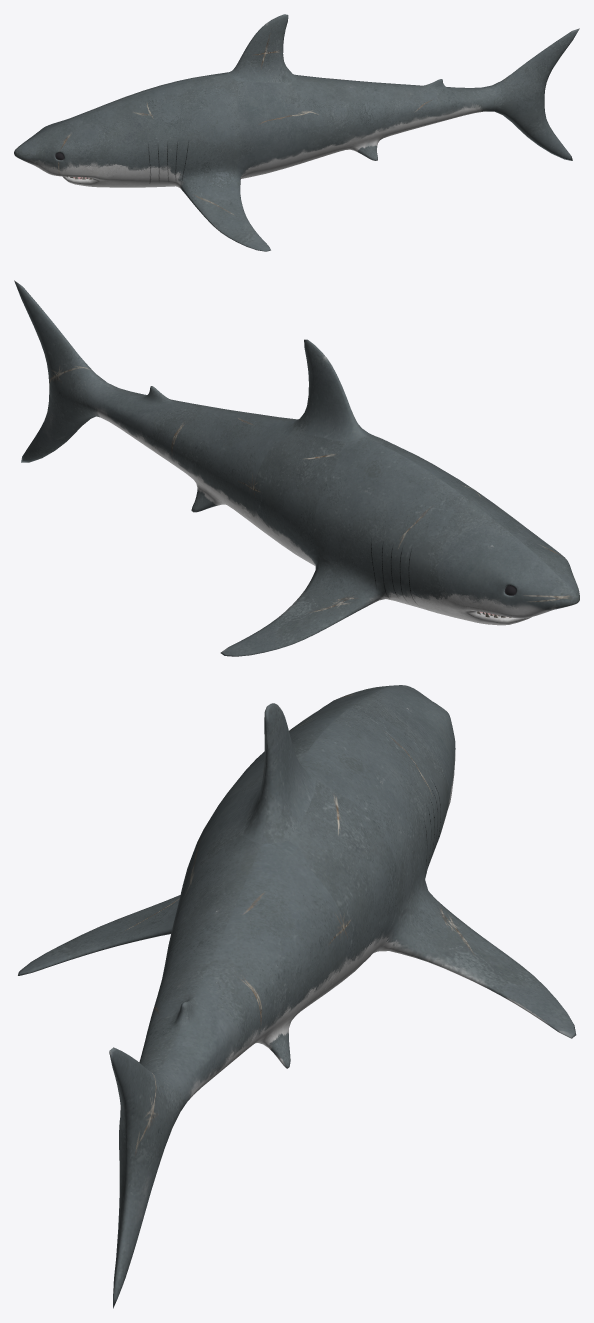
Rendered from great_white_shark.glb.
3 views of the same model, one above another, from view 1: azimuth 30°, elevation 25°; view 2: azimuth 150°, elevation 25°; view 3: azimuth 270°, elevation 25° (orthographic). The views are drawn at different scales.
Visible parts, largest first — view 1: Shark_Shark_0; view 2: Shark_Shark_0; view 3: Shark_Shark_0.
Part boxes in pixels (bbox=[...]): Shark_Shark_0: bbox=[14, 14, 579, 251]; Shark_Shark_0: bbox=[14, 280, 579, 656]; Shark_Shark_0: bbox=[18, 685, 576, 1308].
Size of the model in its own units: 16 by 5.6 by 7.9.
1 material, 1 textured.
